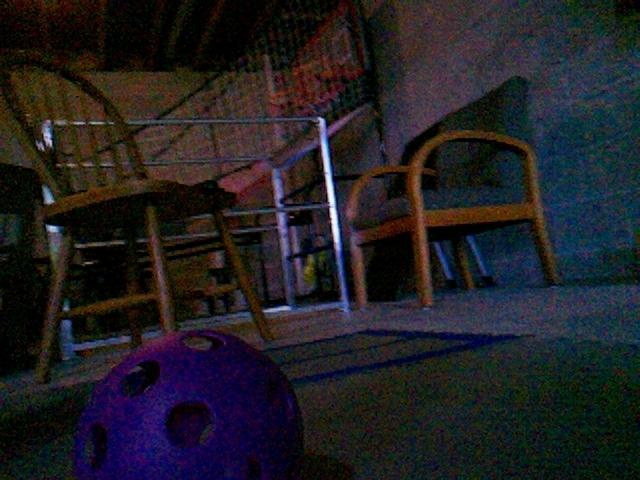Purple: (76, 329, 301, 479)
